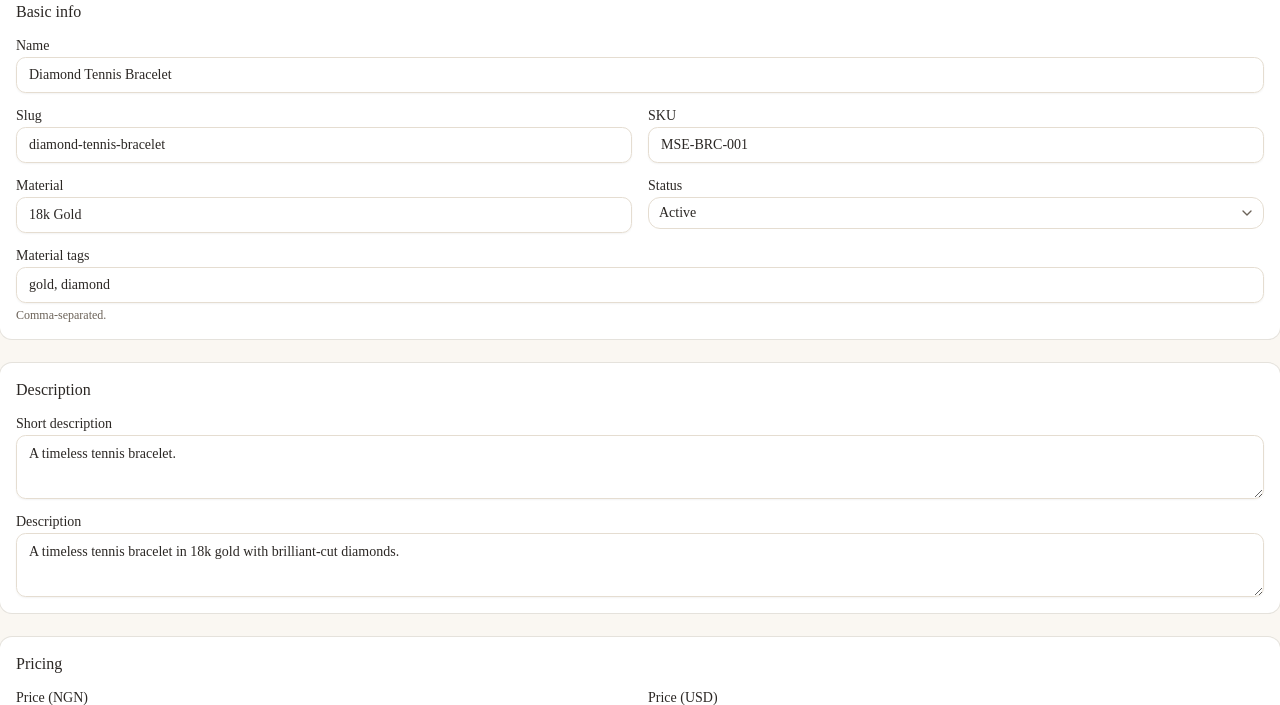
Test: ProductForm › blank name blocks submit
Clear the field labelled "Name" at (640,75), box [16,57,1264,93]
(page scrolled)
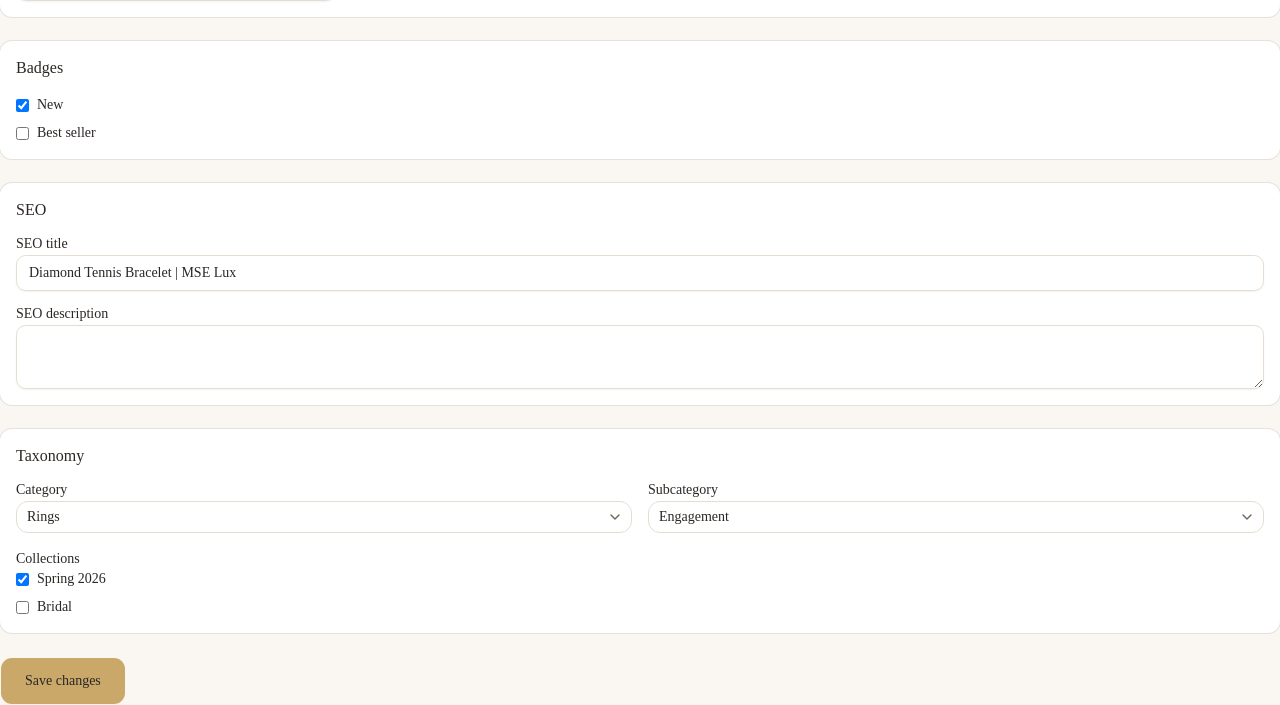
Click the button "Save changes" at (63,681), box [0,657,126,704]
(page scrolled)
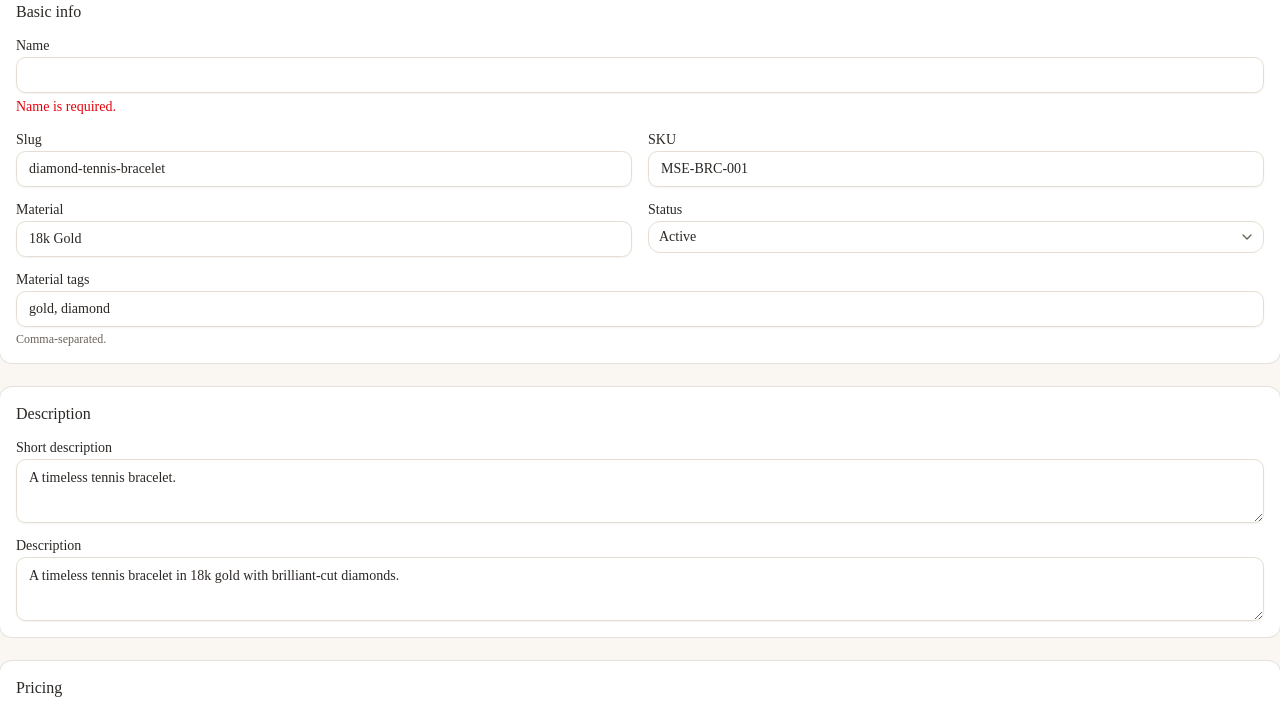
Expected: the message shows "Name is required", [16,99,116,114]
